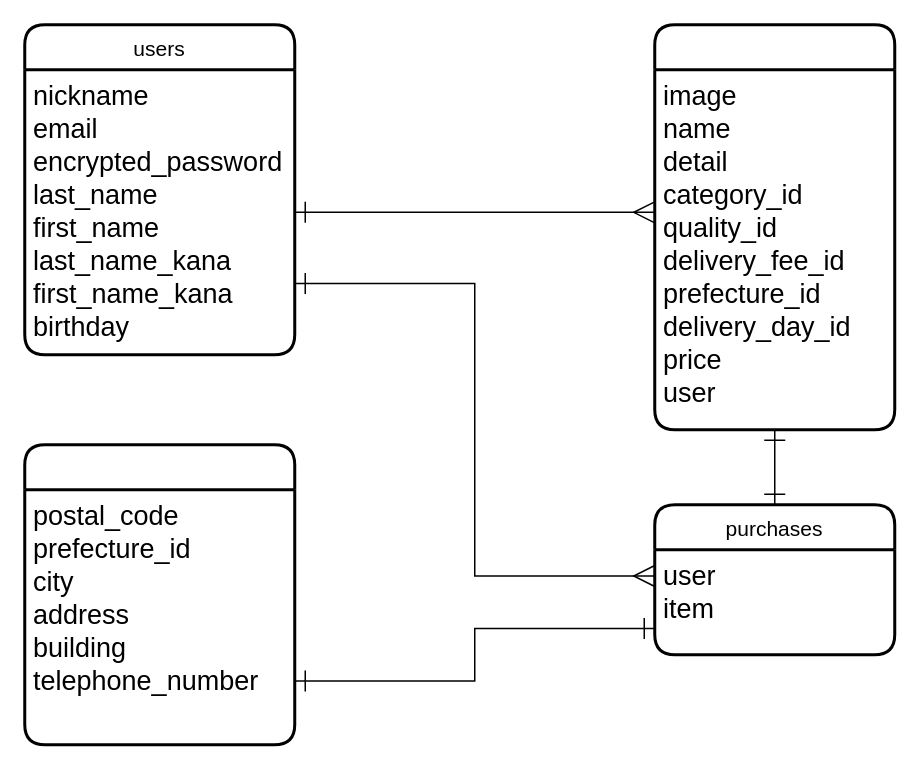
The diagram is 920 pixels wide and 770 high, and some of its shapes have lost their labels. Here are the shapes that lost their labels. From the top down, the box of each, then its label:
(652, 22, 896, 430): items
(22, 442, 296, 746): delivery
